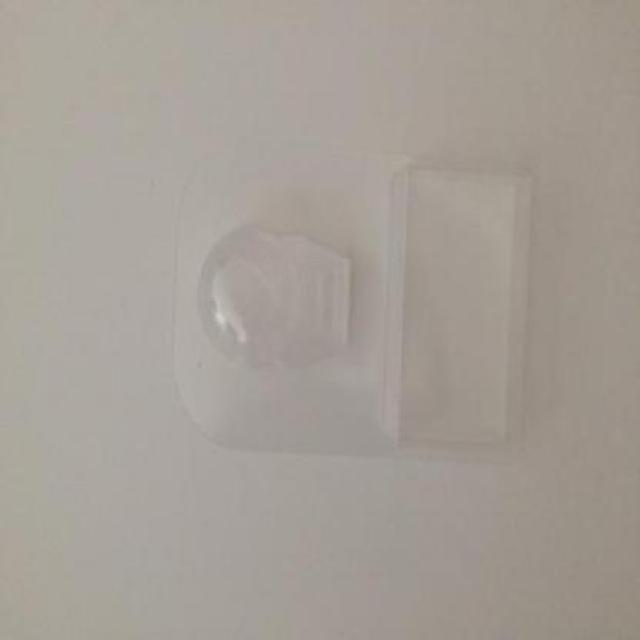PLASTIC: (170, 148, 533, 455)
